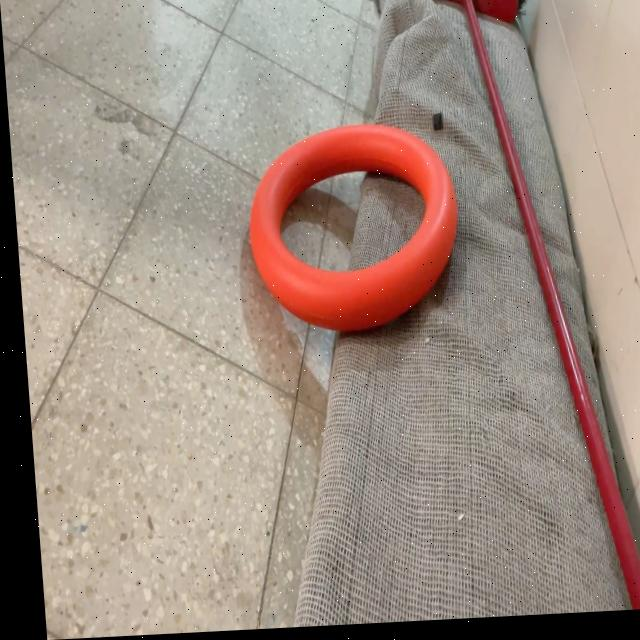note: (238, 121, 463, 343)
